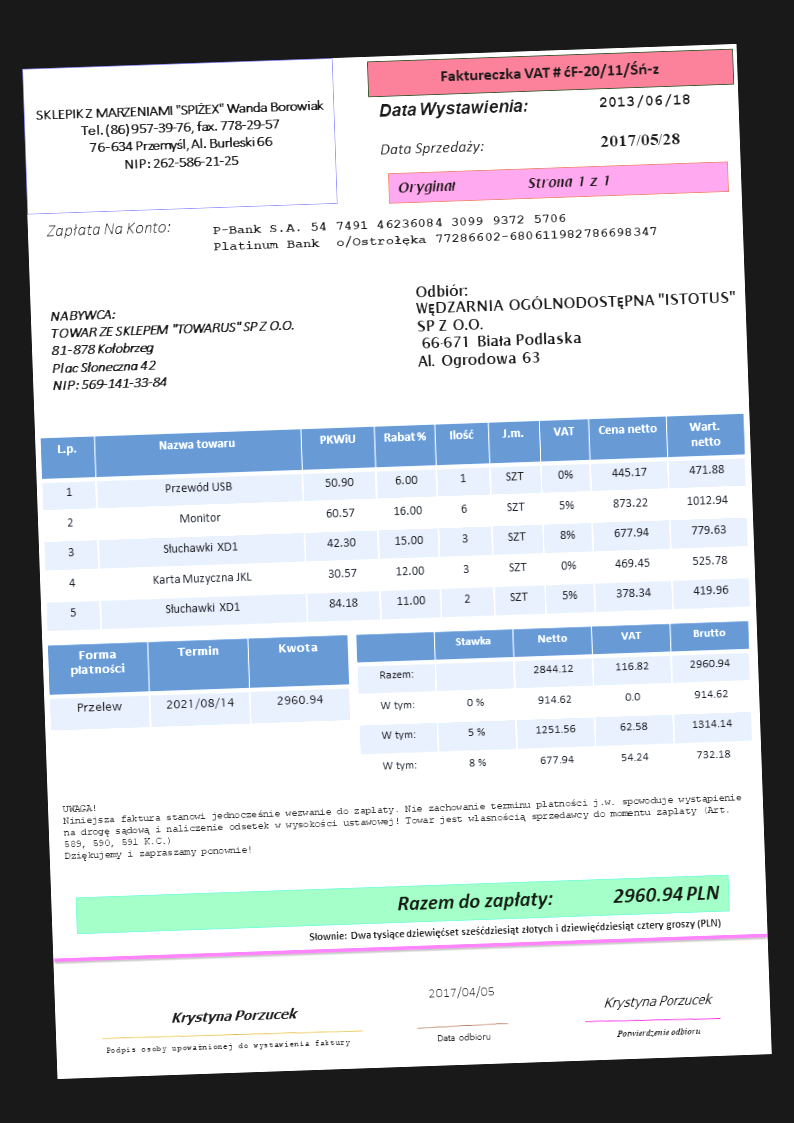Table: (39, 413, 753, 634), (354, 620, 756, 786), (45, 634, 351, 733)
TextBox: (59, 779, 745, 865), (413, 273, 740, 372), (33, 93, 327, 177), (46, 300, 301, 395), (210, 206, 661, 257), (306, 914, 723, 946), (394, 882, 722, 915), (438, 59, 662, 86), (103, 1035, 351, 1059), (398, 171, 615, 196), (377, 95, 531, 122), (43, 219, 174, 242), (170, 1006, 301, 1029), (601, 989, 715, 1013), (378, 138, 485, 159), (597, 91, 692, 113), (425, 980, 497, 1003), (599, 131, 681, 151), (615, 1025, 704, 1041), (435, 1029, 494, 1045)
